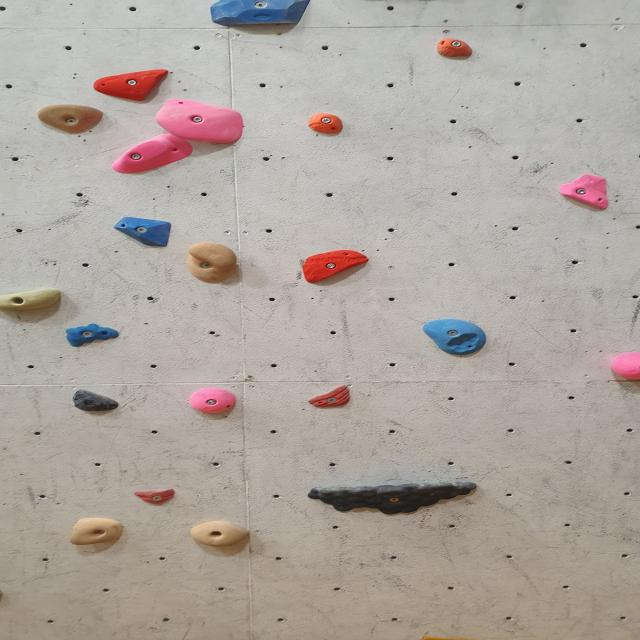Crimp: (206, 0, 318, 30), (91, 71, 173, 102), (298, 250, 368, 284), (557, 174, 613, 210), (65, 324, 122, 346), (308, 387, 356, 409), (132, 490, 178, 505)
Jug: (308, 479, 478, 518), (154, 98, 248, 143), (186, 242, 241, 284), (35, 104, 106, 135), (188, 520, 251, 548), (68, 518, 128, 547)
Pinch: (0, 285, 67, 313), (188, 388, 240, 414), (609, 349, 640, 379), (305, 112, 345, 134), (435, 38, 475, 58)
Sloper: (108, 134, 194, 176), (421, 320, 488, 352), (112, 218, 174, 249), (72, 388, 122, 412)
